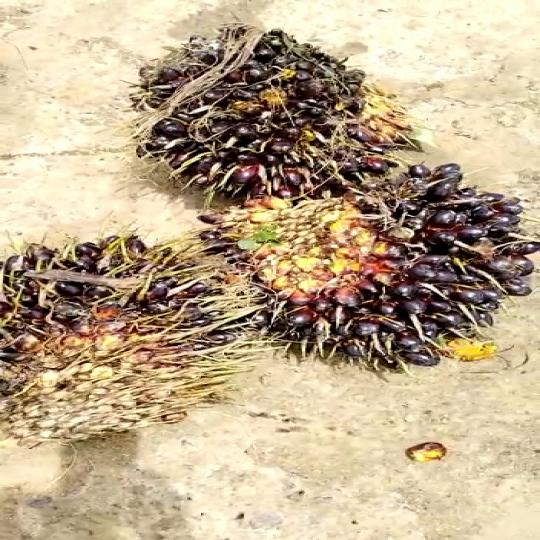mentah: (99, 19, 444, 210), (223, 174, 540, 373), (0, 221, 232, 455)
